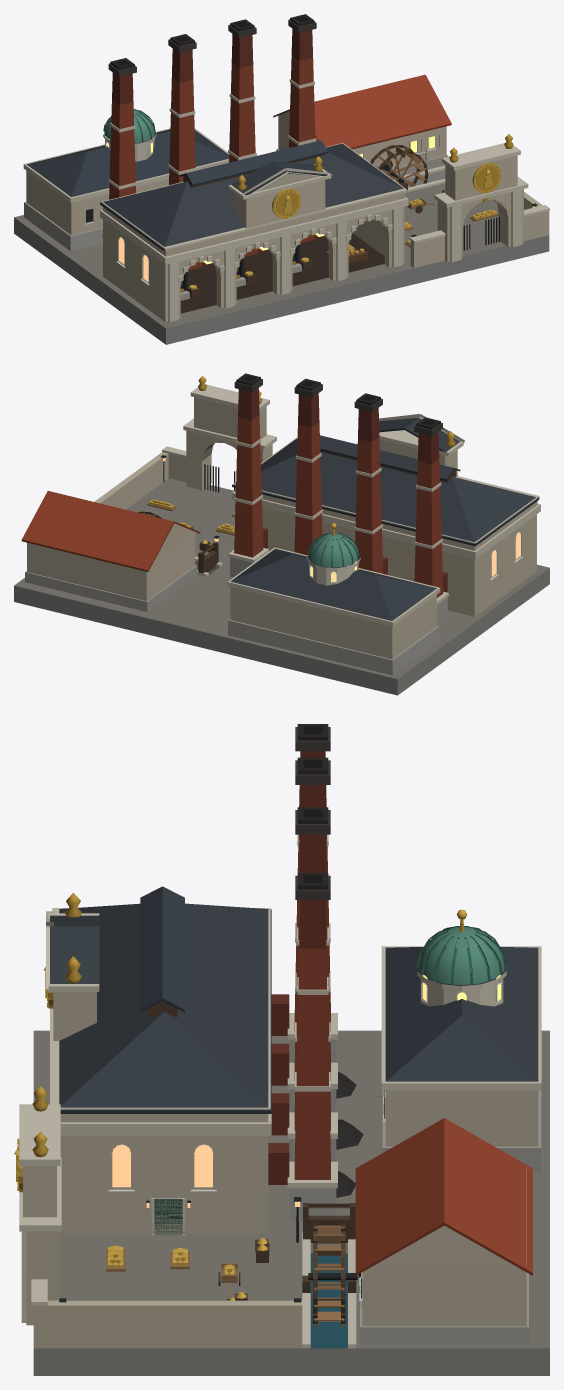
File: mint.glb
3 views of the same model, one above another, from view 1: azimuth 30°, elevation 25°; view 2: azimuth 150°, elevation 25°; view 3: azimuth 270°, elevation 25° (orthographic). The views are drawn at different scales.
Parts seen in each view (by area): view 1: mint_body, wheel, mint_body_windows; view 2: mint_body; view 3: mint_body, wheel, mint_body_windows.
Boxes of the visible parts, box(x1,y1,x2,y2) form: mint_body: box(14, 14, 549, 344); wheel: box(370, 145, 428, 186); mint_body_windows: box(106, 136, 434, 281); mint_body: box(14, 373, 549, 695); mint_body: box(14, 724, 549, 1375); wheel: box(308, 1223, 357, 1326); mint_body_windows: box(112, 975, 501, 1187).
Bounding box in the file's own units: 64 × 35.7 × 45.66.
